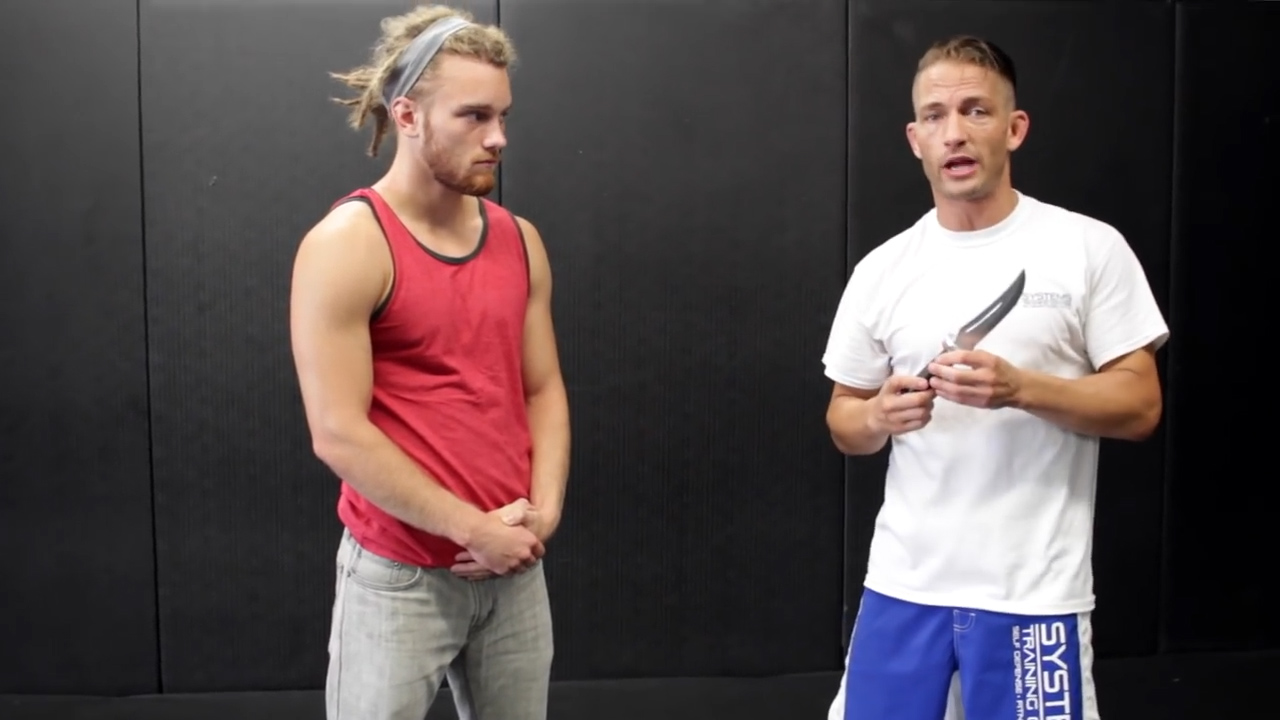knife: (901, 255, 1038, 401)
